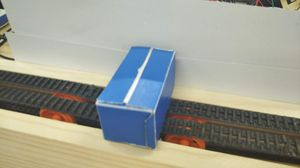box3: (93, 43, 177, 150)
